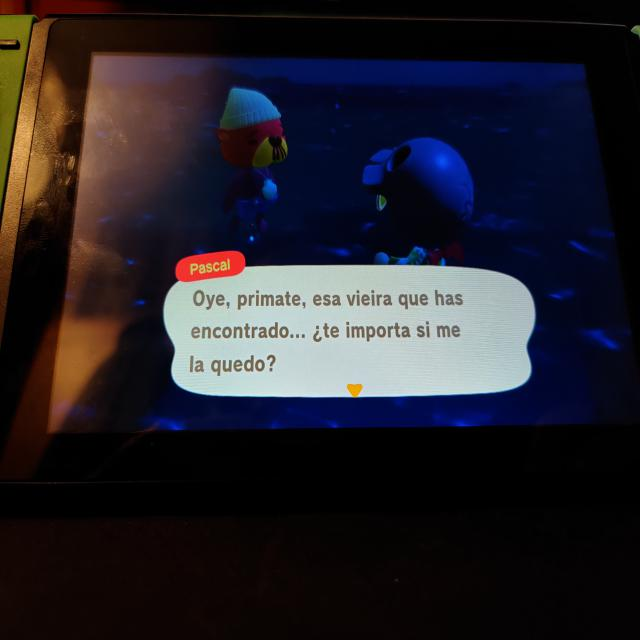text_bubble: (163, 247, 541, 404)
